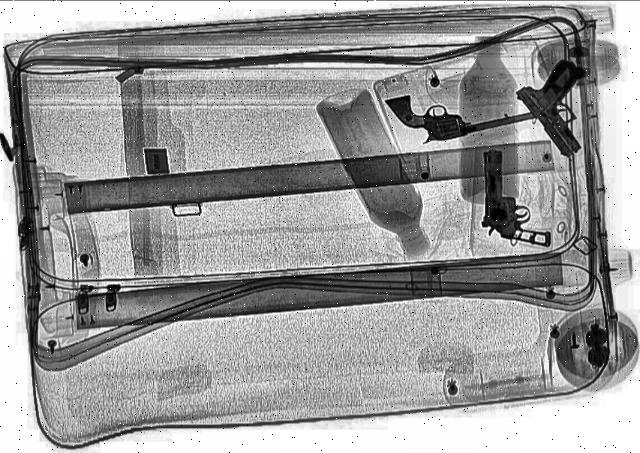Gun: (386, 66, 570, 146), (516, 54, 594, 166), (482, 150, 556, 248)
